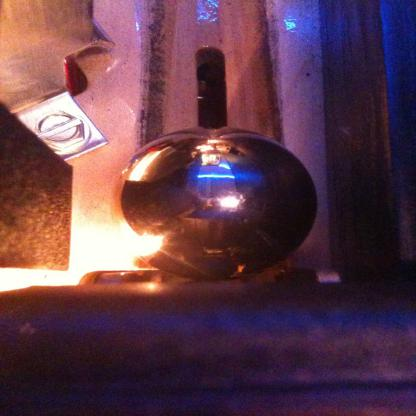Ball: (116, 129, 319, 277)
